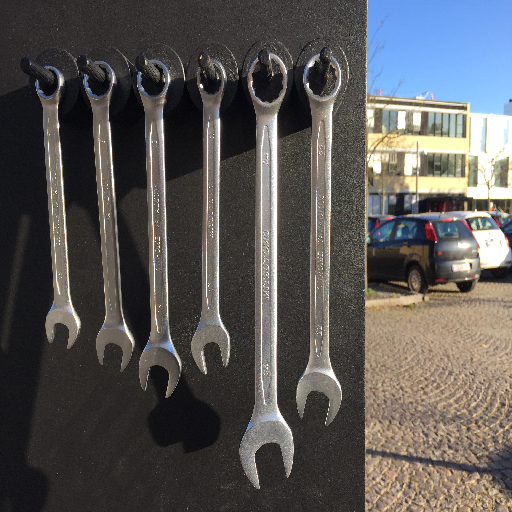bottom: (235, 412, 299, 492), (294, 363, 343, 428), (137, 341, 182, 401), (189, 318, 232, 376), (94, 322, 137, 375), (42, 303, 84, 353)
top: (244, 50, 292, 113), (299, 52, 345, 109), (79, 58, 119, 106), (135, 58, 173, 107), (29, 62, 67, 107), (195, 57, 229, 102)
